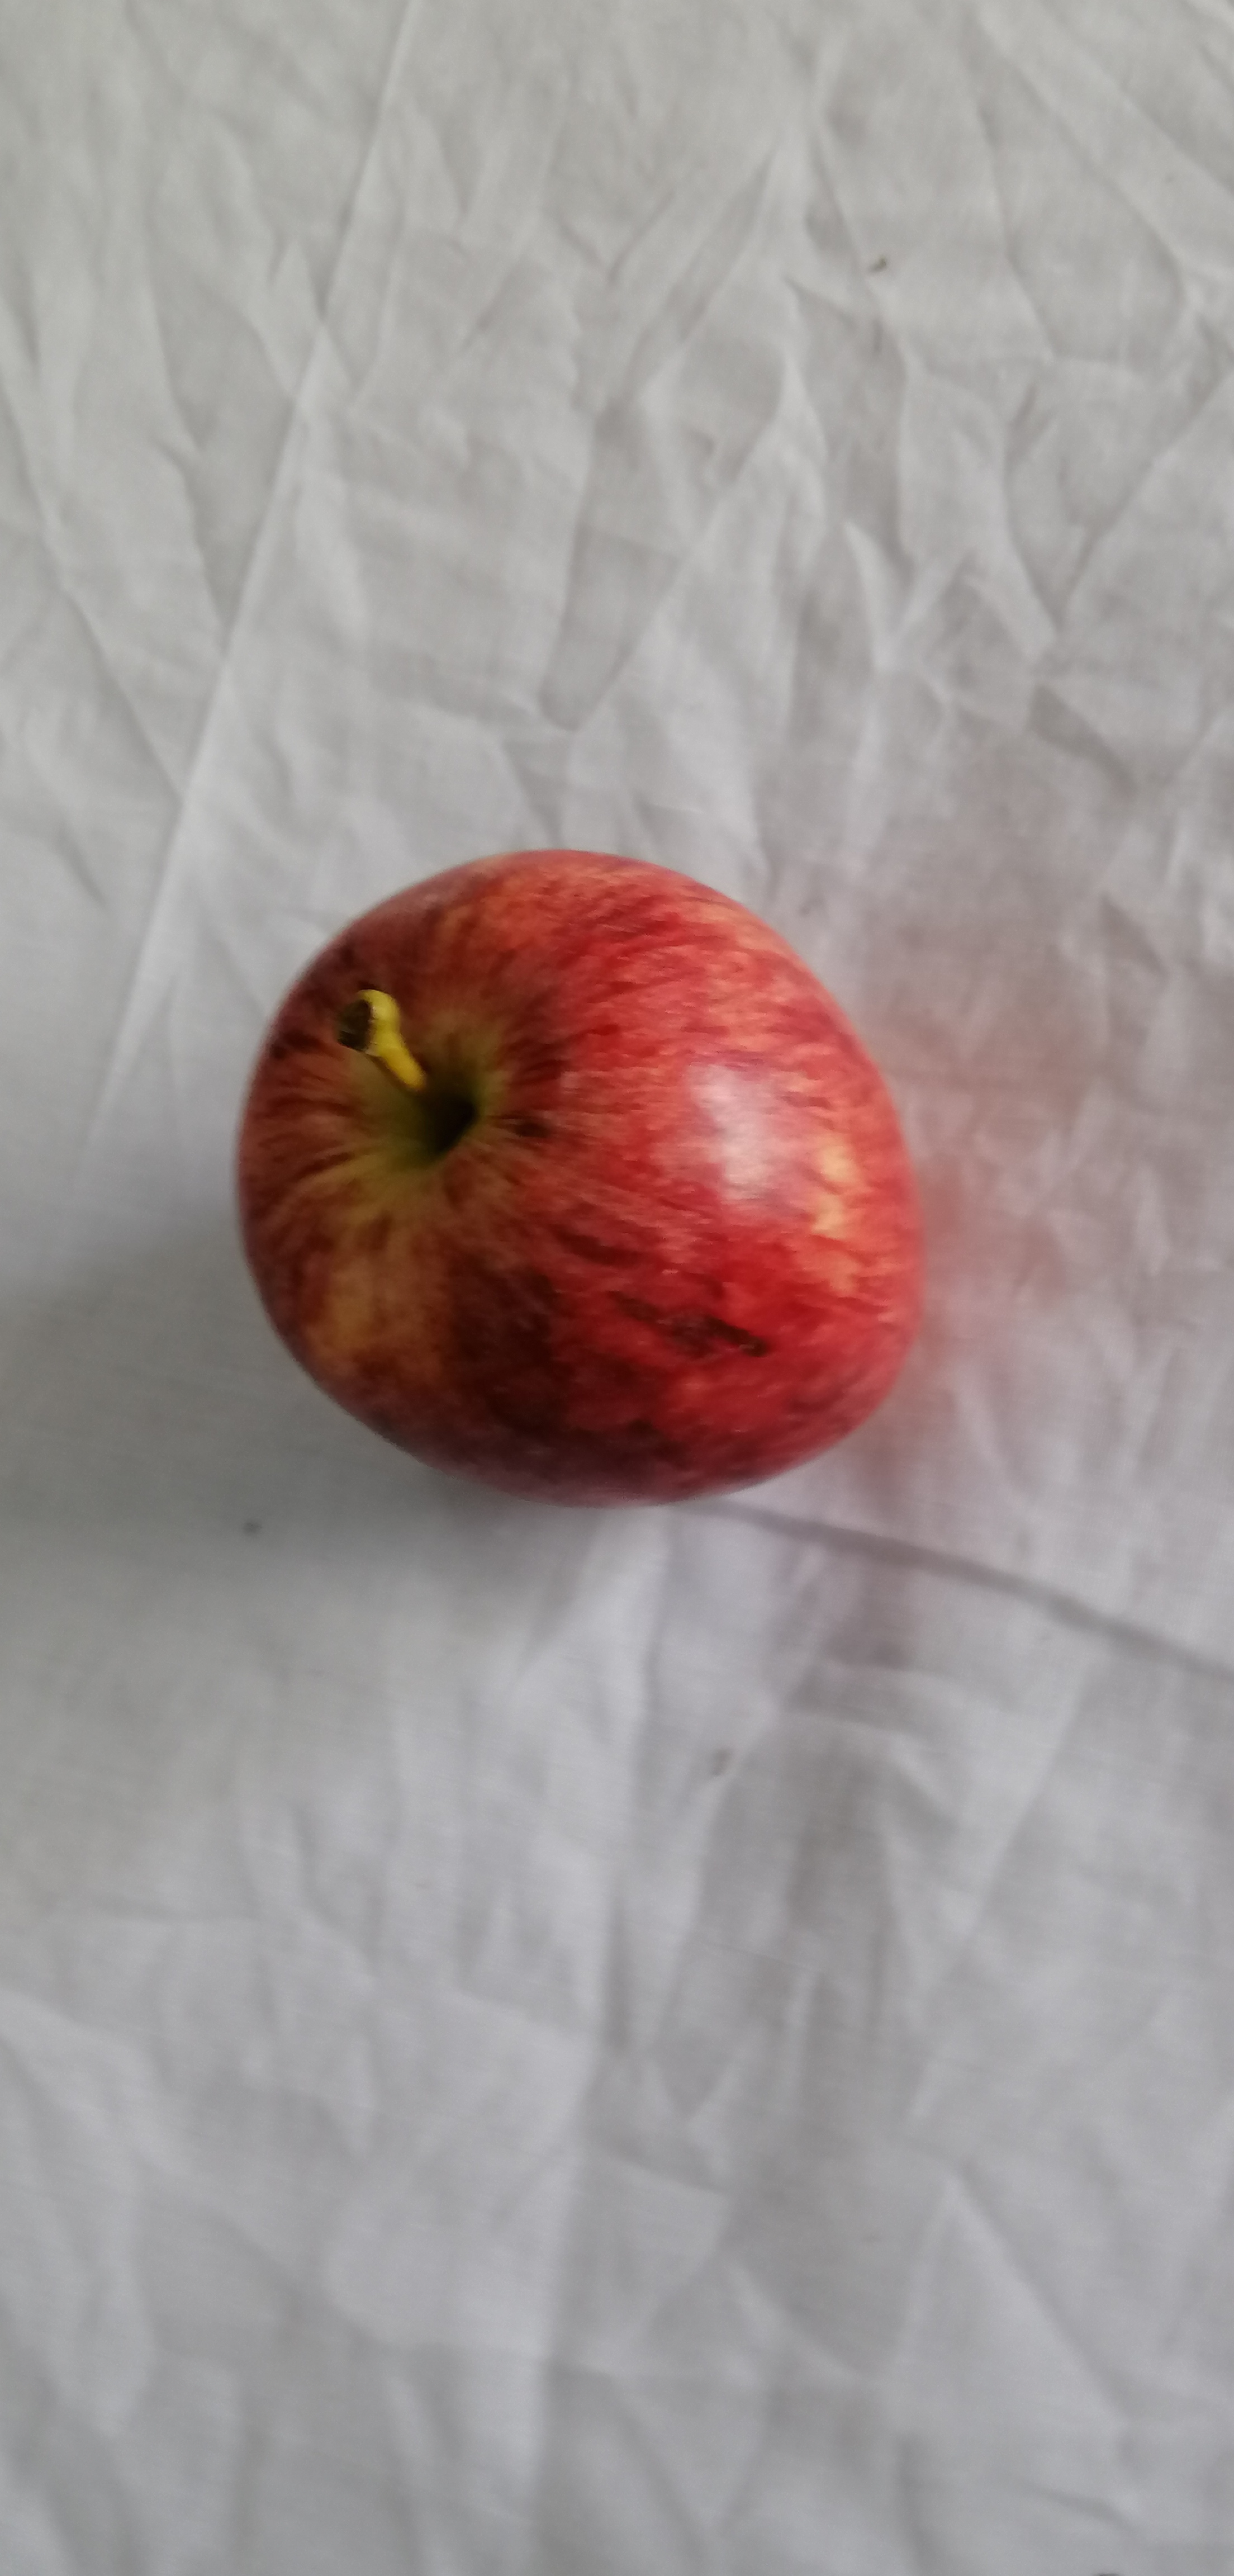apple: (238, 846, 928, 1516)
